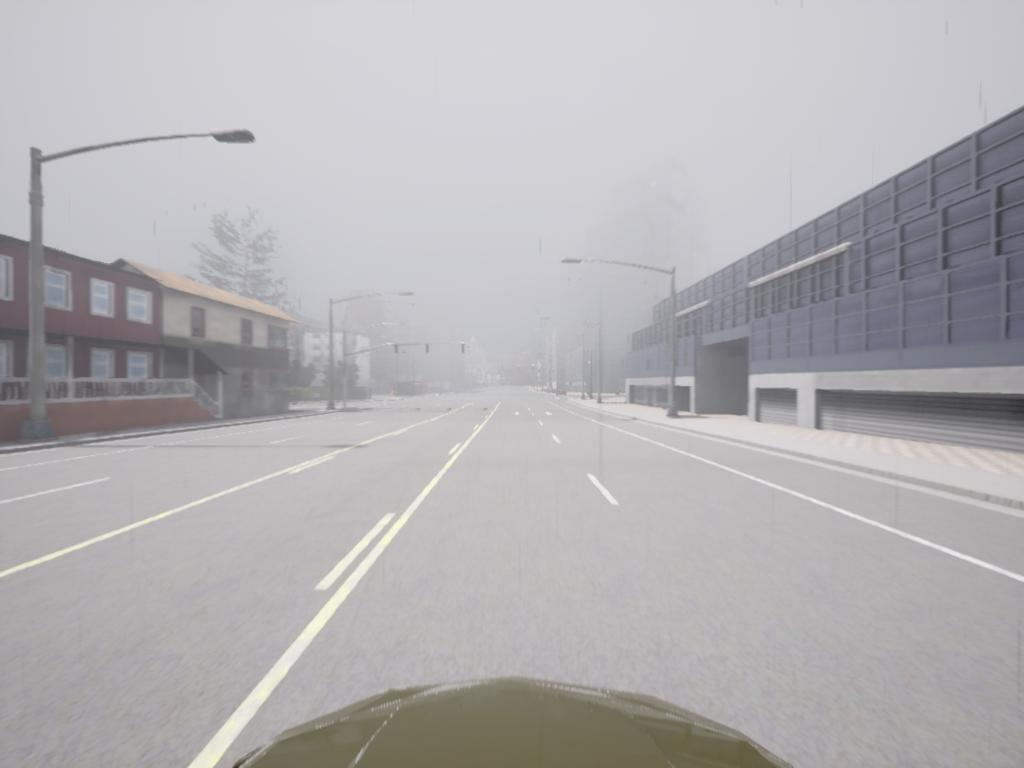traffic_light: (461, 344, 466, 356), (395, 345, 400, 355), (426, 344, 431, 354), (518, 365, 521, 372), (502, 366, 504, 373), (533, 364, 535, 371)
